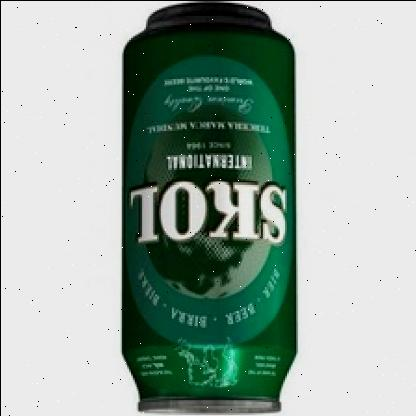Can: (121, 0, 297, 412)
